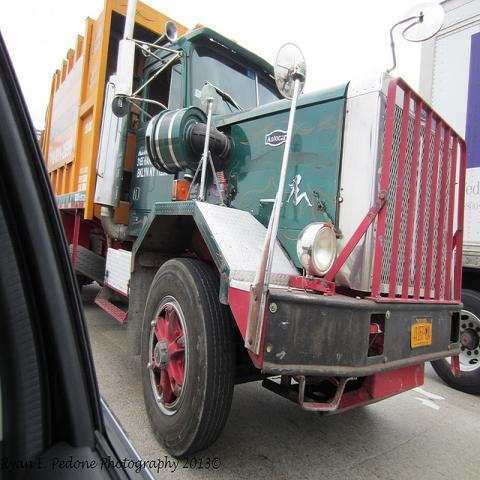car: (0, 28, 153, 474)
truck: (42, 0, 468, 458), (416, 2, 479, 397)
